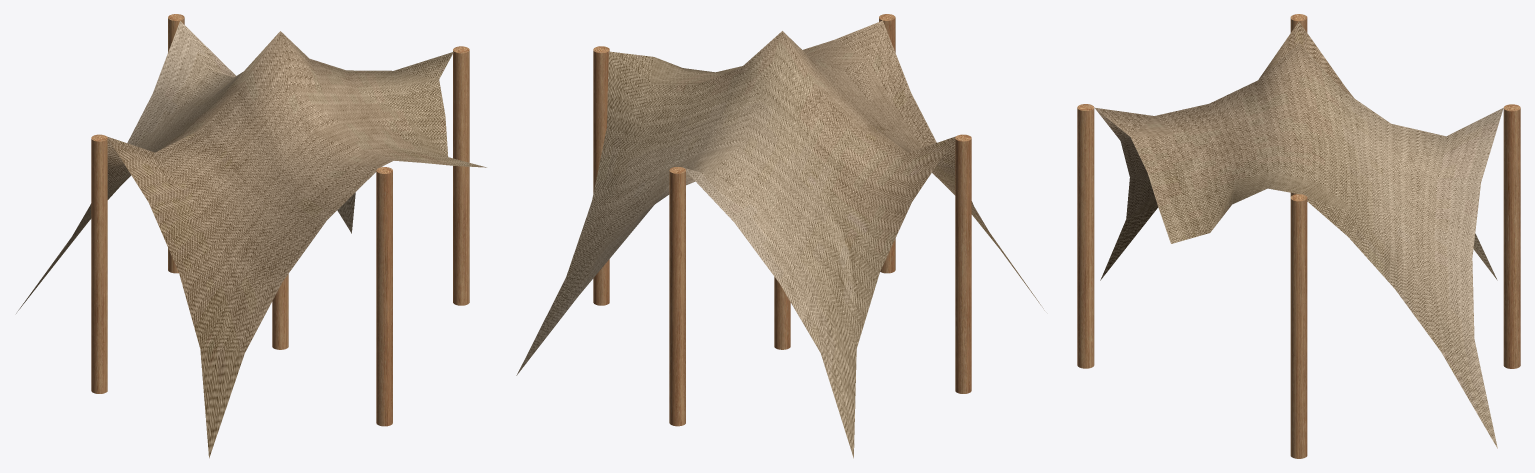
Rendered from Tent_1.1.fbx.
3 renders of one model, left to right at view 1: azimuth 30°, elevation 25°; view 2: azimuth 150°, elevation 25°; view 3: azimuth 270°, elevation 25°, orthographic. The views are drawn at different scales.
Visible parts, largest first — view 1: Tent, Poles; view 2: Tent, Poles; view 3: Tent, Poles.
Part boxes in pixels (x1,y1,x2,y2): Tent: (16, 21, 486, 458); Poles: (91, 14, 469, 426); Tent: (516, 20, 1044, 458); Poles: (593, 14, 971, 426); Tent: (1094, 21, 1503, 448); Poles: (1077, 14, 1520, 458).
Bounding box in the file's own units: 156 × 125 × 156.
2 materials, 2 textured.
